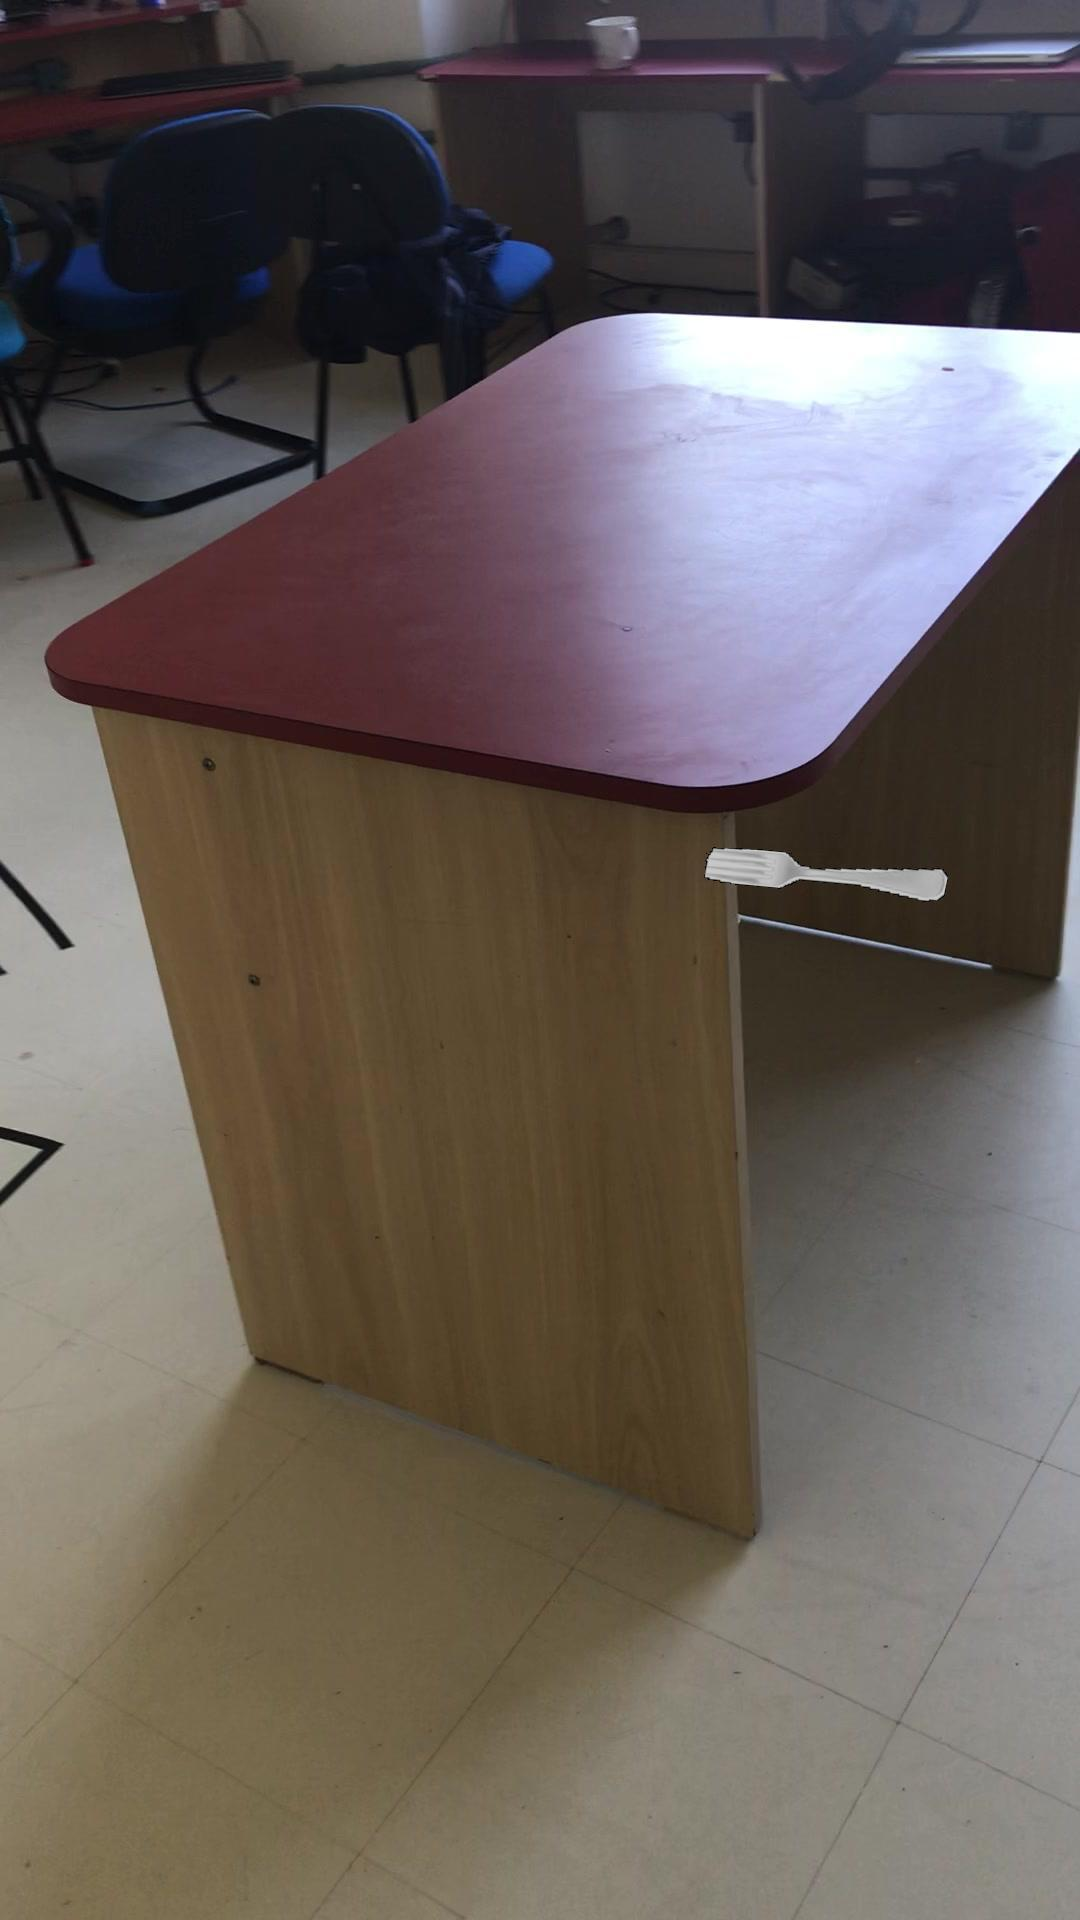fork: (703, 845, 947, 901)
